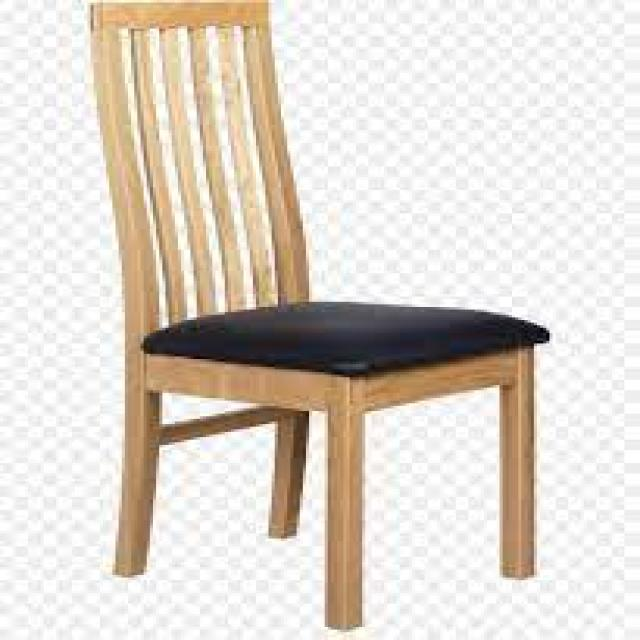chair: (91, 0, 550, 629)
